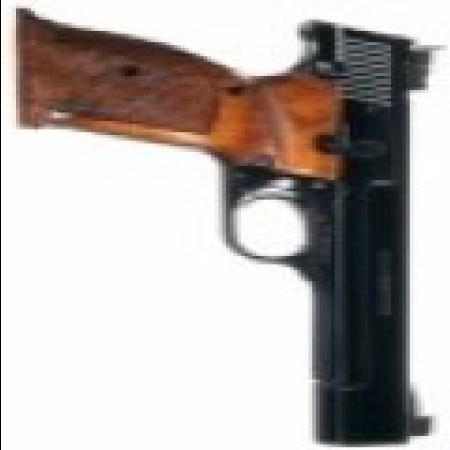Pistol: (19, 17, 431, 447)
